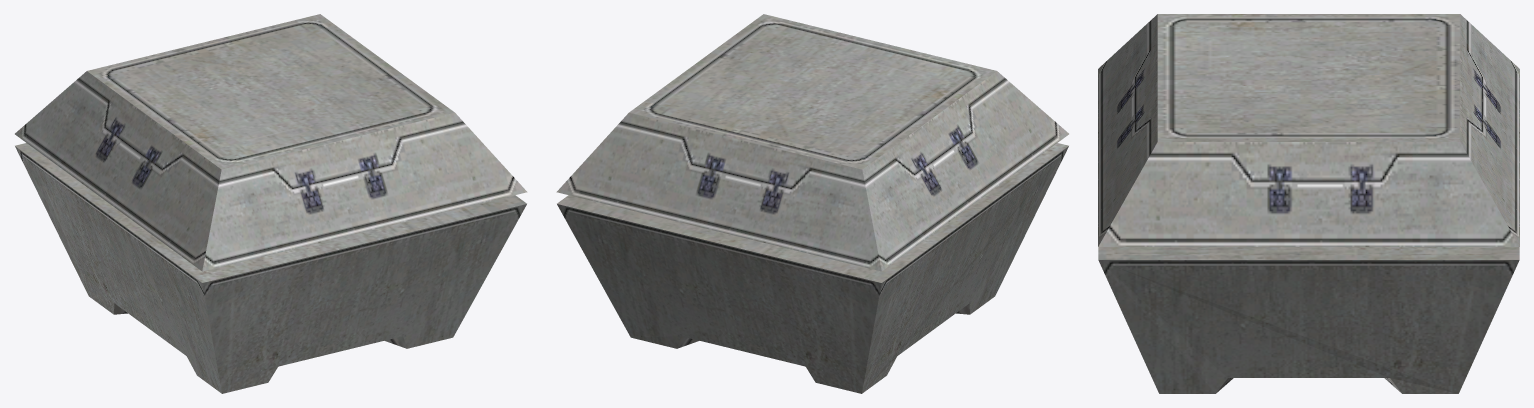
The model's file is con_gen_organic_hide_lg_l1.fbx.
The picture shows the model from 3 angles, left to right: view 1: azimuth 30°, elevation 25°; view 2: azimuth 150°, elevation 25°; view 3: azimuth 270°, elevation 25°; orthographic projection. The views are drawn at different scales.
Parts seen in each view (by area): view 1: mesh_node; view 2: mesh_node; view 3: mesh_node.
Part boxes in pixels (bbox=[...]): mesh_node: bbox=[15, 14, 527, 393]; mesh_node: bbox=[556, 14, 1068, 393]; mesh_node: bbox=[1098, 14, 1519, 393].
Bounding box in the file's own units: 0.9467 × 0.626 × 0.9467.
